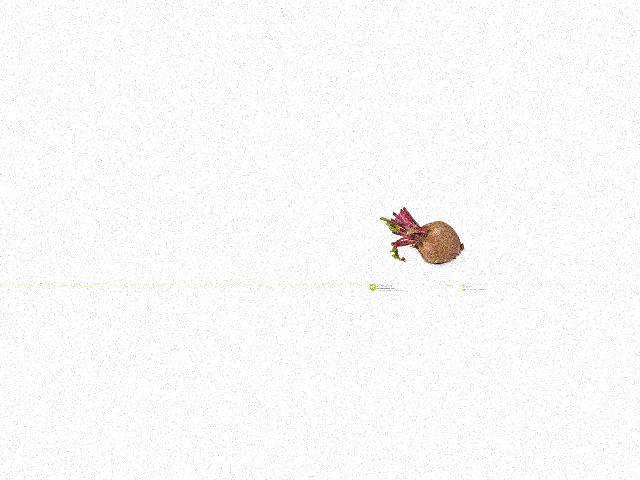beet: (381, 207, 464, 263)
